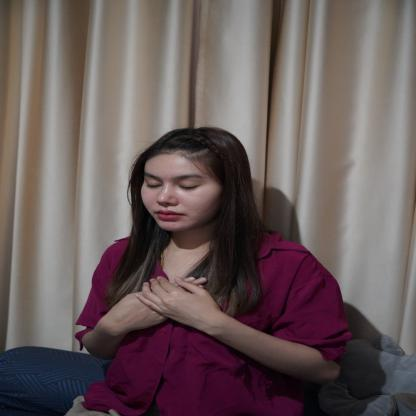Grieve: (88, 272, 240, 336)
